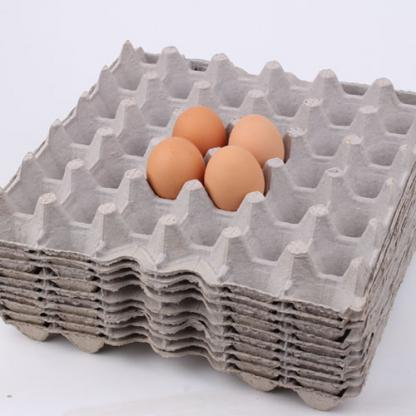egg: (201, 145, 276, 217), (143, 135, 208, 199), (164, 99, 226, 165), (222, 103, 283, 170)
